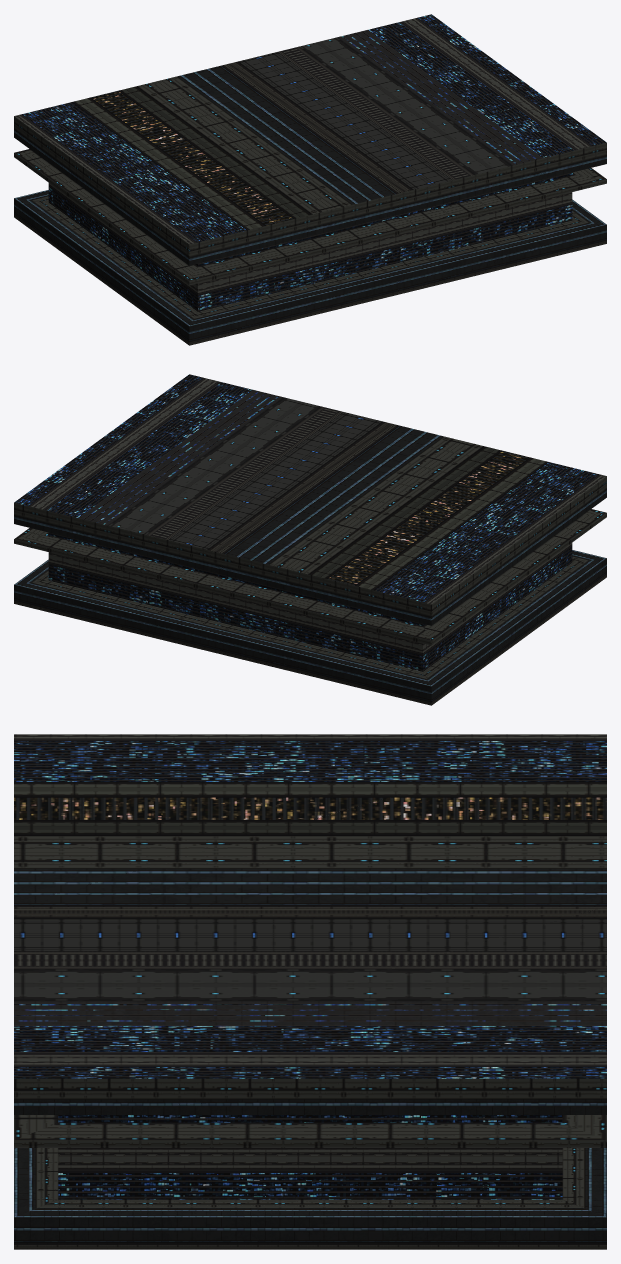
File: Ultra4.fbx
3 views of the same model, one above another, from view 1: azimuth 30°, elevation 25°; view 2: azimuth 150°, elevation 25°; view 3: azimuth 270°, elevation 25° (orthographic). The views are drawn at different scales.
Parts seen in each view (by area): view 1: pPlane32; view 2: pPlane32; view 3: pPlane32.
Part boxes in pixels (x1,y1,x2,y2): pPlane32: (14,14,606,345); pPlane32: (14,374,606,705); pPlane32: (14,734,606,1249).
Size of the model in its own units: 50 by 11.58 by 36.37.
Materials: 1 (1 with a texture image).
